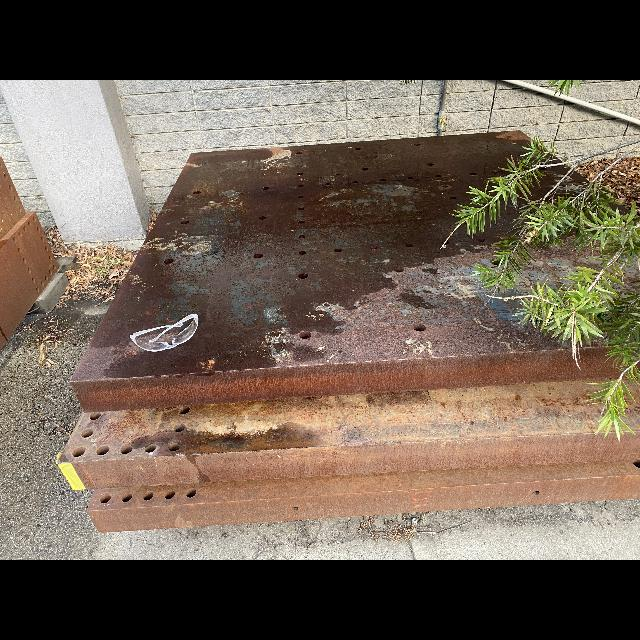Ferrous Metal: (59, 130, 640, 533), (0, 158, 58, 350), (514, 249, 598, 294), (156, 319, 193, 345), (136, 327, 168, 342)
